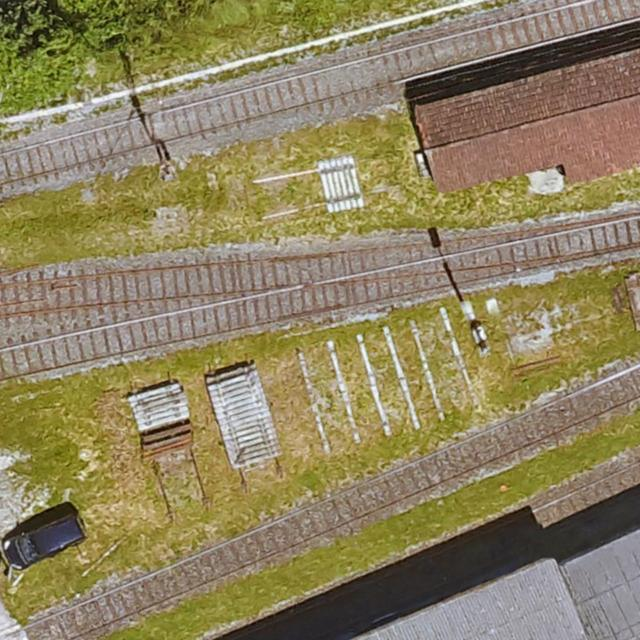tree: (0, 0, 84, 80), (79, 0, 214, 48)
